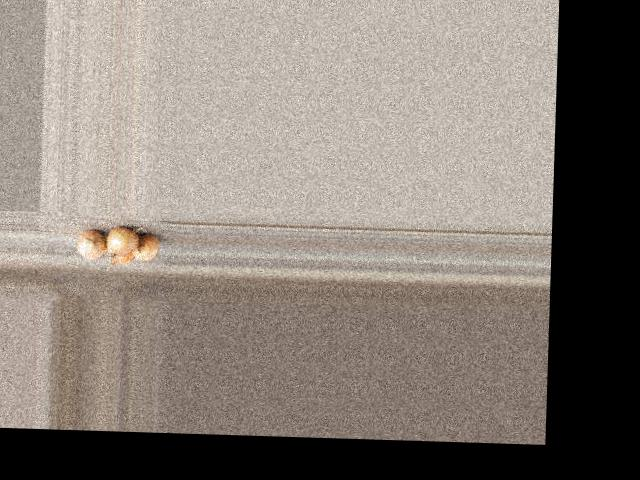onion: (110, 244, 137, 265)
